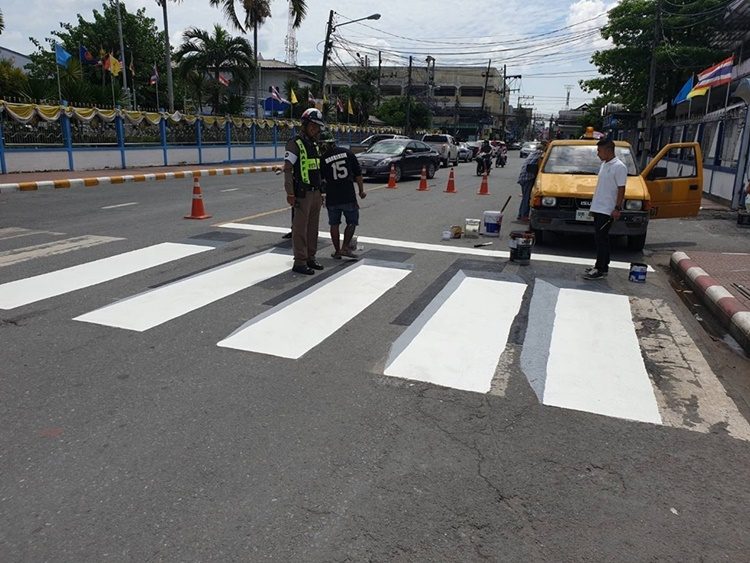bike: (474, 155, 493, 176)
car: (356, 139, 441, 182)
pedestrian lane: (3, 240, 750, 441)
person: (285, 109, 320, 274), (320, 133, 361, 258), (593, 139, 626, 281), (480, 141, 490, 174)
